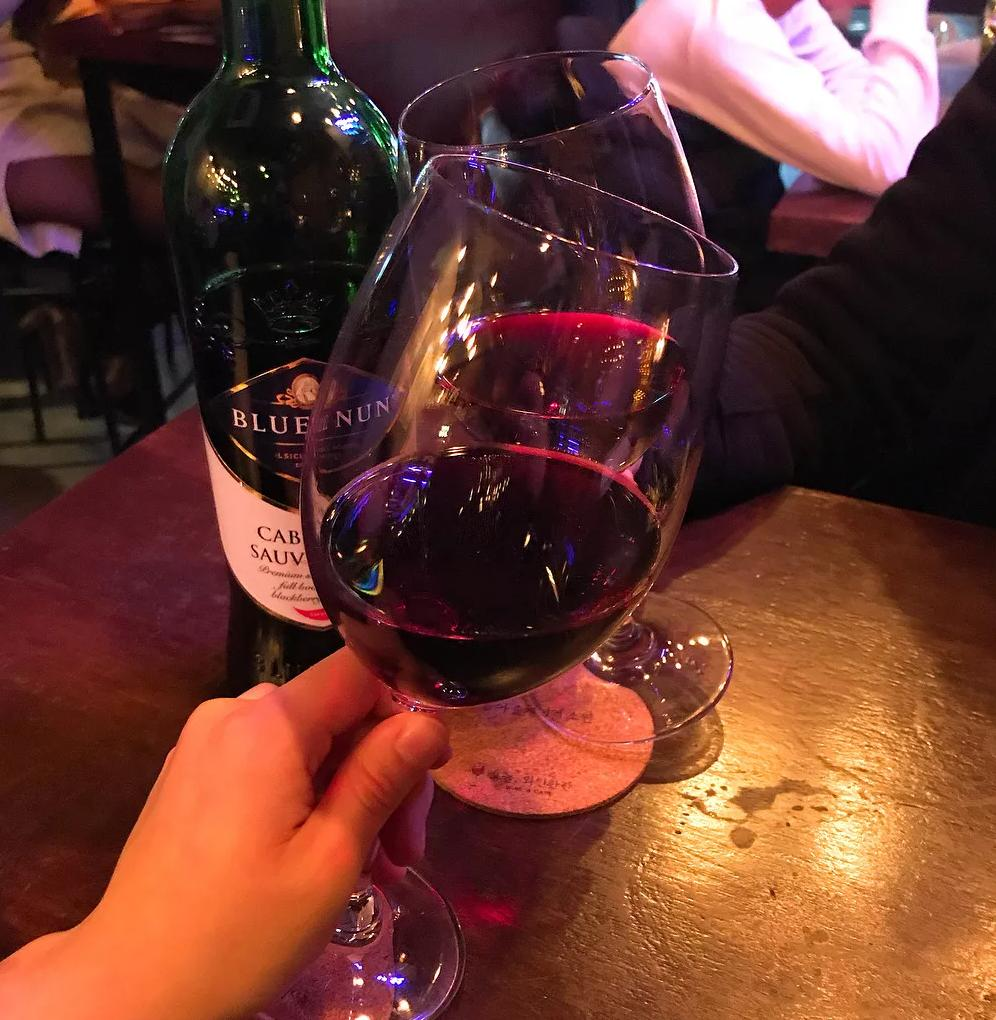wine bottle: (160, 0, 460, 725)
wine label: (207, 444, 443, 638), (214, 349, 408, 491)
